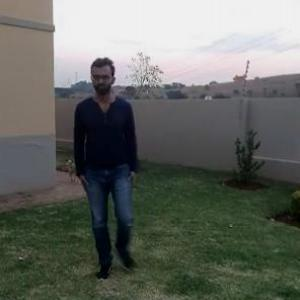follow: (73, 50, 154, 293)
